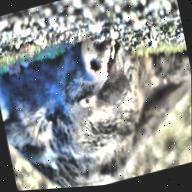boar: (0, 11, 192, 192)
